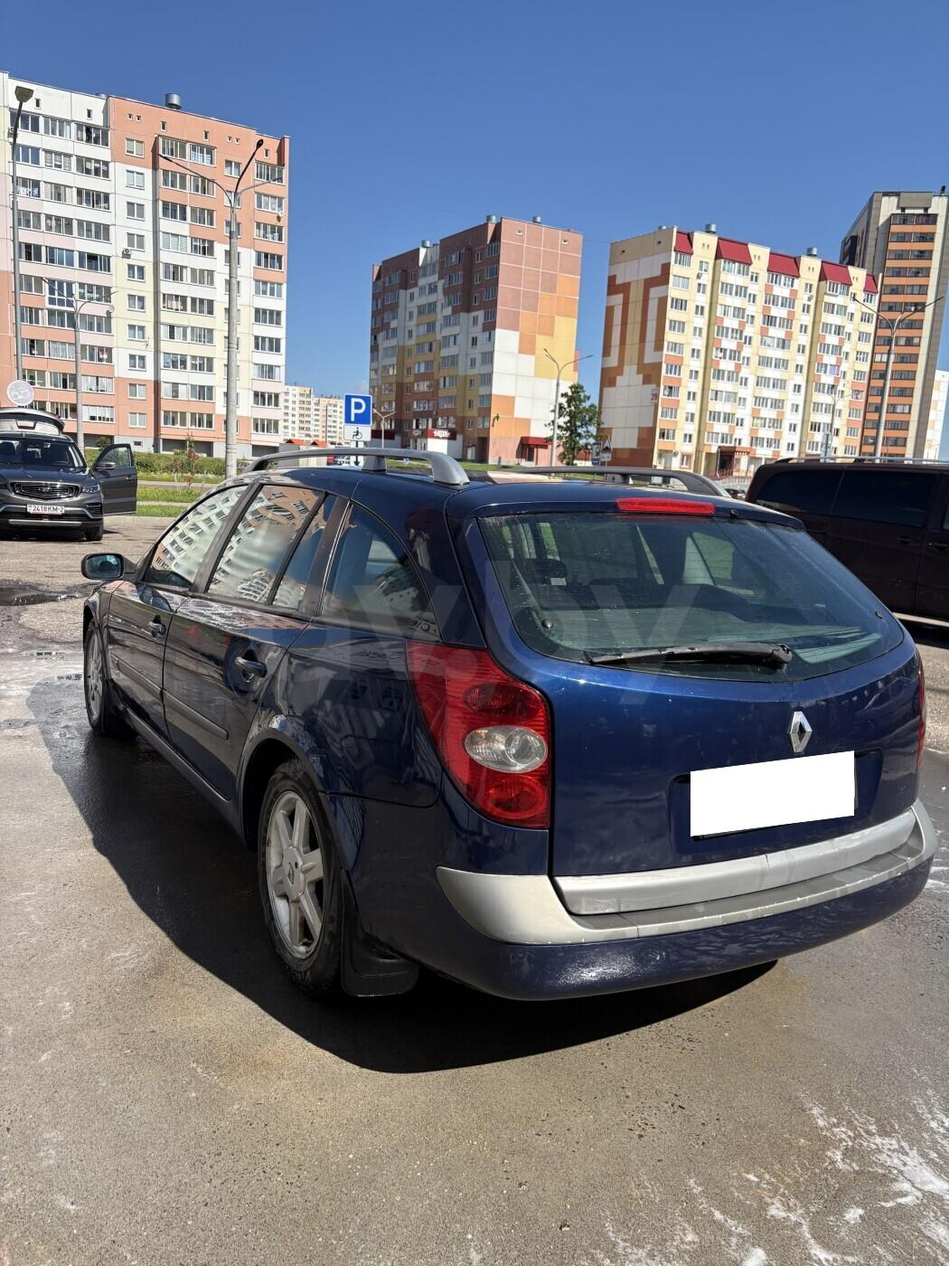Laguna_2001-2005: (81, 458, 935, 1000)
